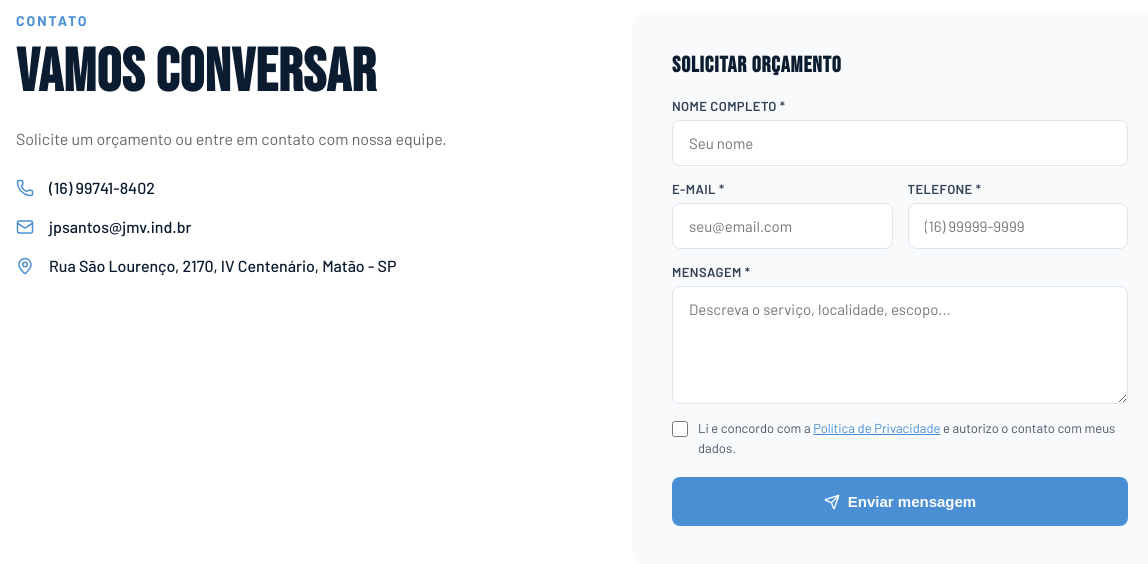
Scenario: Contact — validação › exige o consentimento LGPD antes de enviar
Type "João Silva" into the field labelled "Nome completo *" at (900, 143), box [672,120,1128,166]
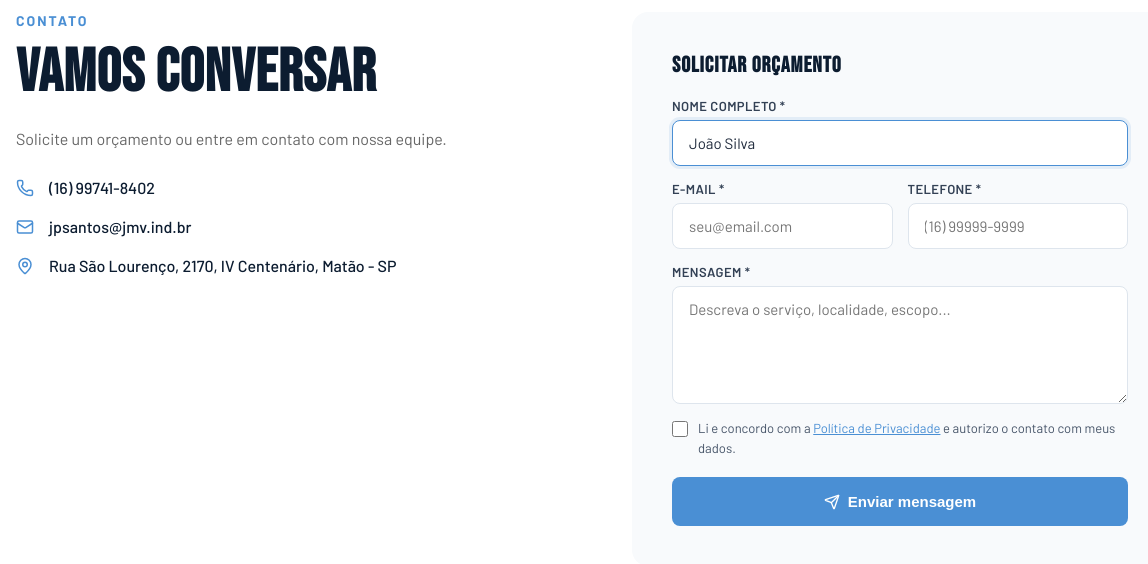
Type "joao@teste.com" into the field labelled "E-mail *" at (782, 226), box [672,203,892,249]
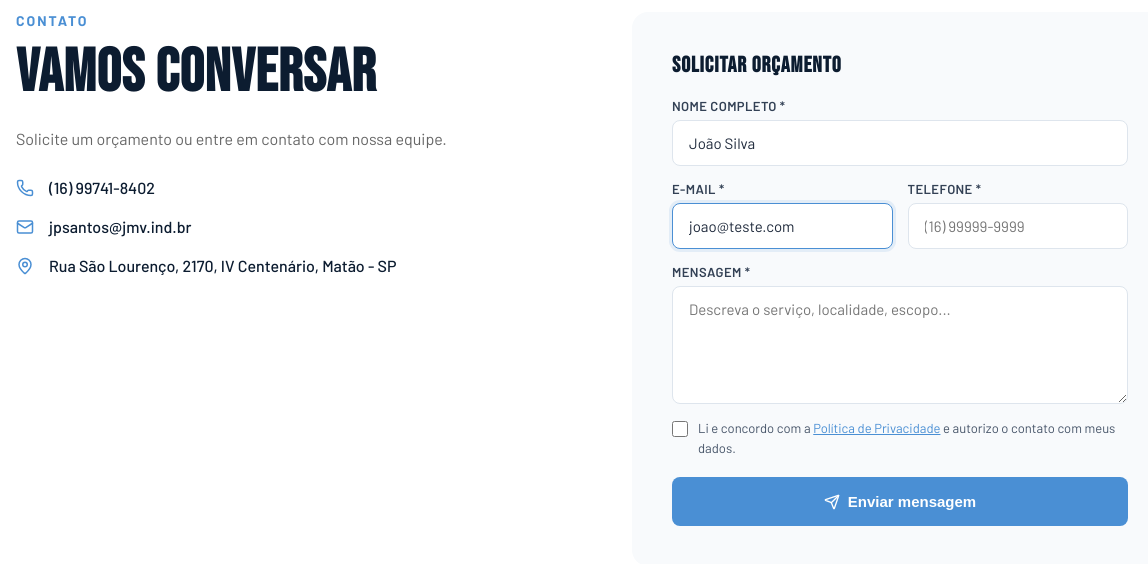
Type "16999999999" into the field labelled "Telefone *" at (1018, 226), box [908,203,1128,249]
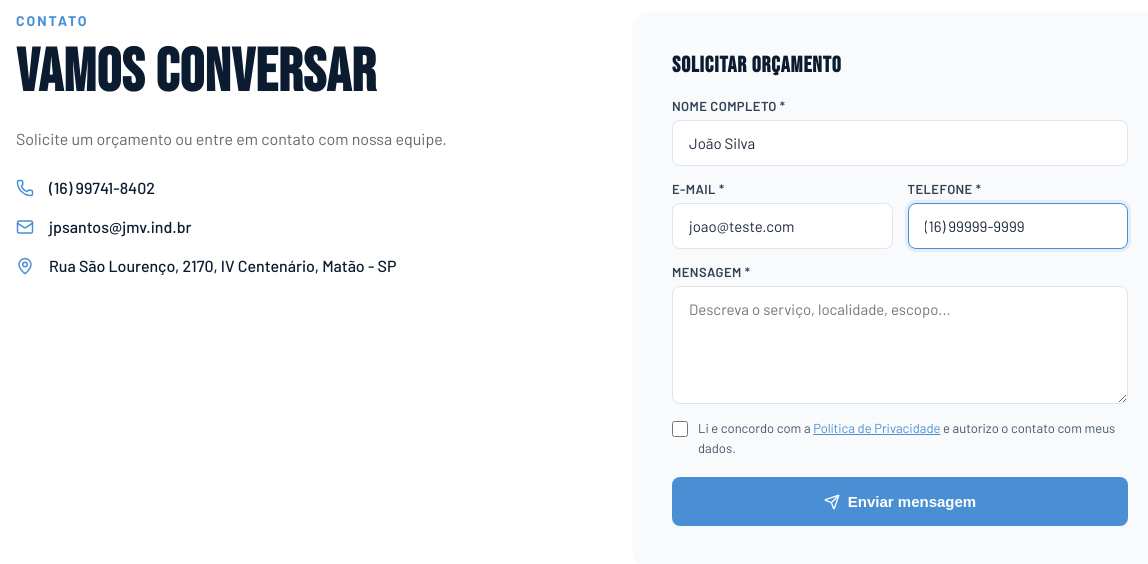
Type "Preciso de um orçamento" into the text box labelled "Mensagem *" at (900, 345), box [672,286,1128,404]
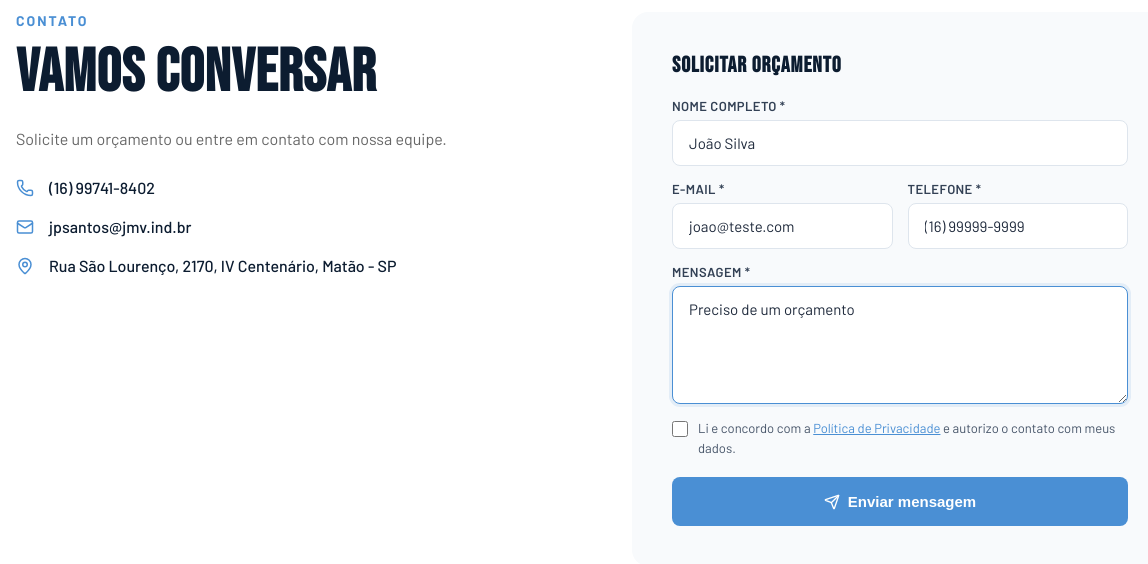
# sem marcar o checkbox de consentimento
Click the button "Enviar mensagem" at (900, 502), box [672,477,1128,526]
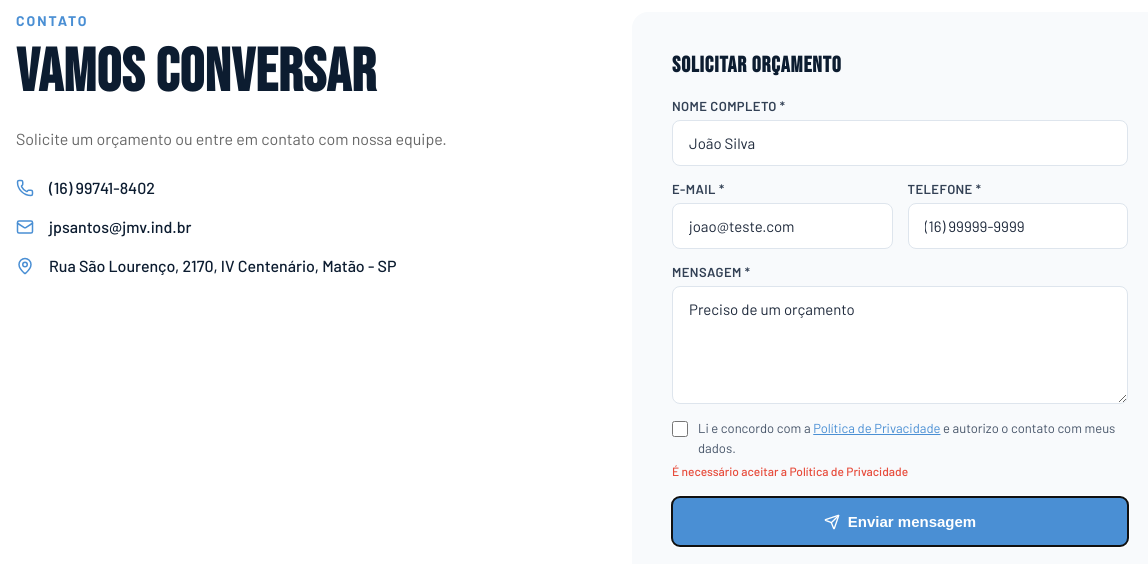
Result: the text "É necessário aceitar a Política de Privacidade" is shown at [672,464,908,478]
